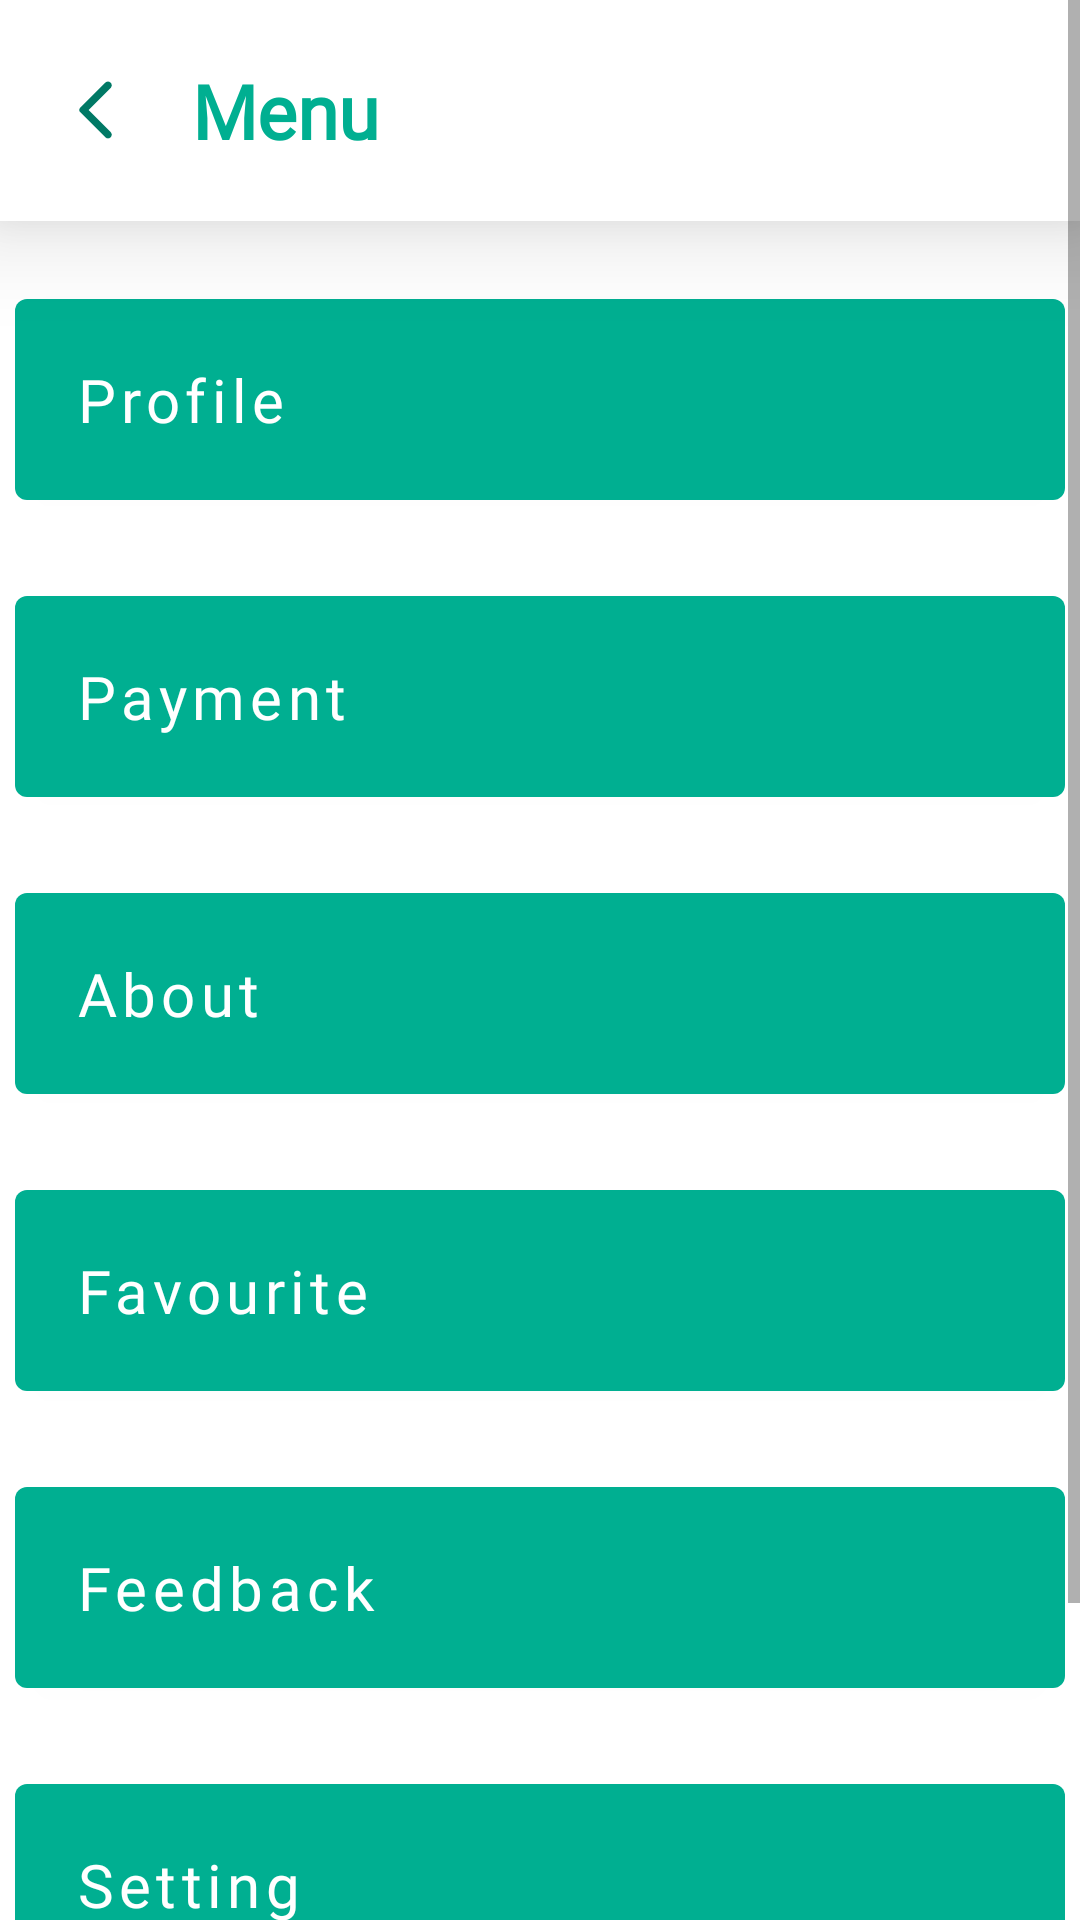

Point at icon controls on the screen. Image size 1080px×1920px, points as (x=x, y=y).
back activity: (x=95, y=110)
